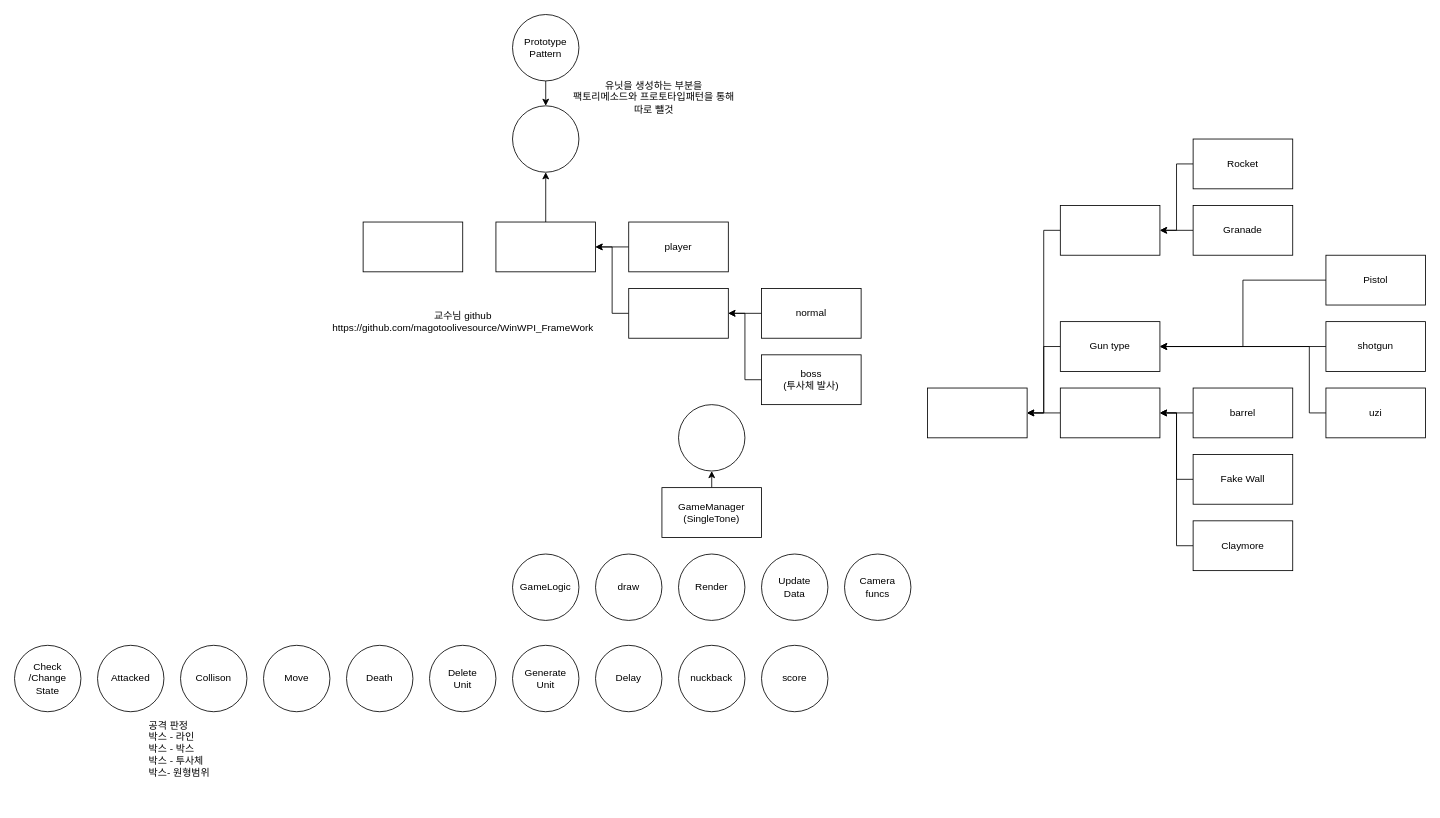
The diagram is 1440 pixels wide and 818 high, and some of its shapes have lost their labels. Each missing label, with the centre of its shape:
"factory Method Pattern" goes at (x=545, y=138).
"installation type" goes at (x=1109, y=412).
"Main" goes at (x=711, y=437).
"Projetile type" goes at (x=1109, y=230).
"unit" goes at (x=545, y=246).
"Unit목록은 List??Map??" goes at (x=412, y=246).
"Weapons" goes at (x=977, y=412).
"zombie" goes at (x=678, y=313).
